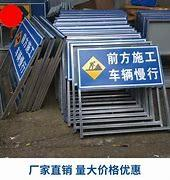sign: (78, 49, 163, 86), (12, 29, 36, 70)
